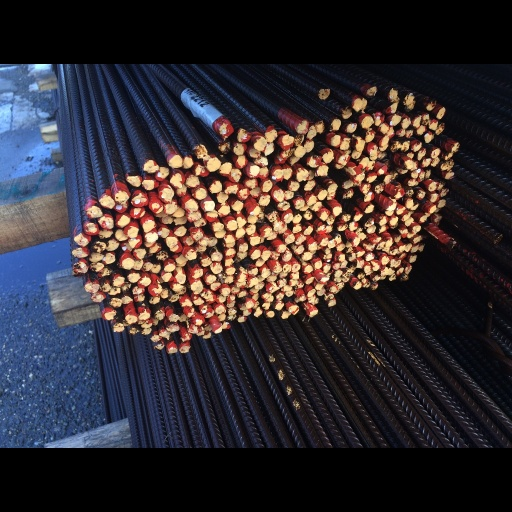dipstick: (70, 262, 88, 283), (72, 226, 92, 244), (219, 77, 233, 102), (126, 148, 144, 166), (71, 242, 90, 259), (98, 175, 116, 192), (86, 187, 103, 205), (131, 173, 147, 191), (130, 189, 146, 206), (114, 168, 129, 186), (162, 182, 177, 200), (206, 124, 220, 143), (223, 226, 237, 245), (97, 203, 113, 219), (191, 220, 207, 236), (371, 64, 385, 82), (218, 132, 232, 150), (149, 182, 163, 200), (350, 44, 362, 64), (296, 74, 308, 94), (170, 145, 182, 165), (144, 128, 158, 145), (85, 211, 99, 228), (360, 68, 373, 86), (328, 72, 341, 90), (253, 98, 266, 116), (105, 232, 118, 250), (217, 102, 229, 121), (186, 148, 200, 164), (123, 216, 137, 232), (147, 294, 161, 310), (160, 167, 173, 184), (212, 220, 229, 233), (424, 44, 436, 62), (141, 208, 156, 222), (92, 236, 106, 251), (91, 304, 106, 318), (387, 34, 400, 50), (377, 78, 390, 94), (246, 136, 259, 152), (272, 168, 285, 184), (317, 194, 330, 210), (137, 284, 150, 300), (103, 328, 116, 344), (339, 56, 351, 73), (234, 122, 246, 139), (296, 140, 308, 157), (169, 121, 181, 138), (175, 255, 187, 272), (247, 164, 261, 178), (186, 196, 200, 210), (102, 252, 116, 266), (108, 312, 122, 326), (388, 67, 401, 82), (307, 122, 320, 137), (228, 141, 241, 156), (117, 201, 130, 216), (174, 202, 189, 215), (294, 108, 306, 124), (264, 87, 276, 103), (238, 88, 250, 104), (157, 138, 169, 154), (217, 187, 229, 203), (129, 230, 141, 246), (122, 258, 134, 274), (340, 97, 350, 116), (403, 37, 414, 54), (322, 116, 333, 133), (234, 105, 245, 122), (257, 136, 268, 153), (196, 136, 209, 150), (238, 237, 251, 251), (189, 290, 202, 304), (345, 77, 357, 92), (355, 100, 365, 118), (317, 132, 327, 150), (210, 155, 222, 170), (226, 208, 238, 223), (89, 264, 104, 276), (435, 57, 446, 73), (400, 70, 411, 86), (364, 88, 375, 104), (357, 124, 368, 140), (303, 101, 314, 117), (272, 140, 283, 156), (176, 160, 187, 176), (285, 226, 296, 242), (85, 292, 101, 303), (265, 105, 274, 124), (142, 154, 155, 167), (213, 319, 226, 332), (281, 100, 293, 114), (237, 166, 249, 180), (194, 164, 206, 178), (231, 182, 243, 196), (303, 196, 315, 210), (273, 210, 287, 222), (161, 202, 175, 214), (88, 252, 102, 264), (148, 238, 160, 252), (113, 344, 125, 358), (179, 374, 191, 388), (331, 96, 342, 111), (294, 179, 305, 194), (262, 156, 273, 171), (186, 182, 197, 197), (331, 188, 342, 203), (250, 246, 261, 261), (235, 203, 246, 218), (114, 283, 125, 298), (303, 214, 313, 230), (225, 160, 237, 173), (363, 186, 375, 199), (246, 202, 259, 214), (174, 216, 187, 228), (199, 256, 211, 269), (162, 279, 174, 292), (159, 355, 172, 367), (121, 309, 134, 321), (281, 140, 292, 154), (304, 140, 315, 154), (244, 153, 258, 164), (366, 144, 377, 158), (292, 200, 303, 214), (260, 272, 271, 286), (195, 203, 206, 217), (158, 217, 169, 231), (154, 328, 165, 342), (421, 65, 430, 82), (319, 32, 329, 47), (389, 102, 399, 117), (317, 167, 327, 182), (183, 124, 193, 139), (349, 208, 359, 223), (277, 239, 287, 254), (411, 68, 420, 84), (435, 78, 444, 94), (375, 136, 387, 148), (306, 84, 315, 100), (249, 114, 261, 126), (248, 188, 260, 200), (294, 242, 306, 254), (212, 250, 224, 262), (98, 271, 110, 283), (151, 264, 159, 282), (219, 297, 231, 309), (125, 334, 137, 346), (168, 332, 180, 344), (149, 360, 161, 372), (430, 112, 441, 125), (217, 170, 228, 183), (415, 168, 426, 181), (290, 212, 301, 225), (301, 251, 314, 262), (172, 192, 185, 203), (145, 224, 158, 235), (166, 232, 177, 245), (211, 211, 224, 222), (164, 265, 175, 278), (214, 348, 225, 361), (366, 128, 376, 142), (293, 94, 303, 108), (283, 197, 293, 211), (272, 264, 282, 278), (282, 250, 292, 264), (282, 263, 292, 277), (246, 216, 256, 230), (133, 260, 143, 274), (374, 158, 383, 173), (353, 147, 364, 159), (338, 122, 349, 134), (203, 182, 214, 194), (342, 167, 354, 178), (354, 260, 365, 272), (308, 236, 319, 248), (304, 268, 315, 280), (290, 266, 301, 278), (266, 280, 278, 291), (205, 282, 217, 293), (204, 328, 215, 340), (167, 376, 178, 388), (367, 30, 377, 43), (351, 113, 361, 126), (327, 160, 337, 173), (289, 156, 299, 169), (259, 175, 269, 188), (384, 233, 394, 246), (237, 248, 247, 261), (128, 278, 138, 291), (138, 332, 151, 342), (417, 112, 425, 128), (315, 76, 323, 92), (261, 248, 270, 262), (288, 323, 299, 334), (289, 277, 300, 288), (411, 104, 421, 116), (197, 114, 207, 126), (342, 154, 354, 164), (396, 166, 404, 181), (429, 173, 439, 185), (378, 202, 388, 214), (324, 215, 334, 227), (390, 259, 400, 271), (250, 230, 260, 242), (236, 220, 246, 232), (193, 273, 203, 285), (224, 280, 234, 292), (248, 284, 258, 296), (134, 306, 144, 318), (216, 330, 226, 342), (305, 155, 314, 168), (371, 263, 380, 276), (250, 229, 259, 242), (143, 263, 152, 276), (225, 258, 234, 271), (211, 289, 220, 302), (401, 103, 409, 117), (254, 325, 262, 339), (423, 94, 433, 105), (439, 166, 449, 177), (256, 124, 267, 134), (284, 170, 294, 181), (278, 184, 289, 194), (289, 278, 300, 288), (262, 219, 272, 230), (116, 224, 126, 235), (211, 268, 222, 278), (226, 271, 236, 282), (429, 76, 438, 88), (440, 130, 449, 142), (307, 176, 316, 188), (362, 160, 371, 172), (404, 268, 413, 280), (314, 263, 323, 275), (255, 260, 264, 272), (370, 108, 377, 123), (404, 128, 412, 141), (405, 179, 413, 192), (395, 86, 405, 96), (444, 144, 454, 154), (338, 214, 348, 224), (230, 296, 240, 306), (387, 183, 396, 194), (411, 240, 420, 251), (307, 300, 316, 311), (187, 250, 196, 261), (217, 307, 226, 318), (243, 325, 252, 336), (381, 96, 388, 110), (451, 106, 459, 118), (410, 130, 418, 142), (427, 158, 435, 170), (383, 148, 391, 160), (410, 182, 418, 194), (390, 204, 398, 216), (401, 198, 409, 210), (102, 292, 110, 304), (424, 140, 431, 153), (381, 255, 388, 268), (417, 84, 426, 94), (444, 118, 453, 128), (358, 225, 367, 235), (378, 214, 388, 223), (396, 191, 406, 200), (404, 206, 413, 216), (320, 232, 329, 242), (407, 224, 417, 233), (337, 254, 347, 263), (327, 314, 337, 323), (275, 318, 284, 328), (289, 287, 299, 296), (266, 328, 275, 338), (156, 372, 165, 382), (405, 88, 413, 99), (438, 180, 446, 191), (334, 228, 342, 239), (337, 238, 345, 249), (280, 330, 291, 338), (353, 230, 360, 242), (310, 328, 317, 340), (353, 199, 362, 208), (365, 253, 374, 262), (320, 285, 329, 294), (261, 318, 270, 327), (428, 190, 436, 200), (365, 206, 373, 216), (414, 214, 422, 224), (434, 202, 442, 212), (328, 234, 336, 244), (399, 244, 409, 252), (352, 290, 360, 300), (363, 270, 371, 280), (329, 295, 339, 303), (307, 284, 315, 294), (418, 144, 424, 157), (411, 253, 417, 266), (437, 158, 444, 169), (419, 201, 426, 212), (277, 305, 284, 316), (406, 118, 414, 127), (407, 153, 415, 162), (411, 232, 423, 238), (333, 265, 341, 274), (296, 230, 304, 239), (283, 296, 292, 304), (262, 303, 270, 312), (228, 316, 236, 325), (410, 142, 417, 152), (355, 251, 365, 258), (238, 280, 245, 290), (396, 273, 404, 281), (334, 282, 342, 290), (266, 309, 274, 317), (286, 302, 293, 311), (238, 336, 246, 343), (335, 276, 342, 283), (372, 295, 379, 300), (314, 262, 316, 264)
